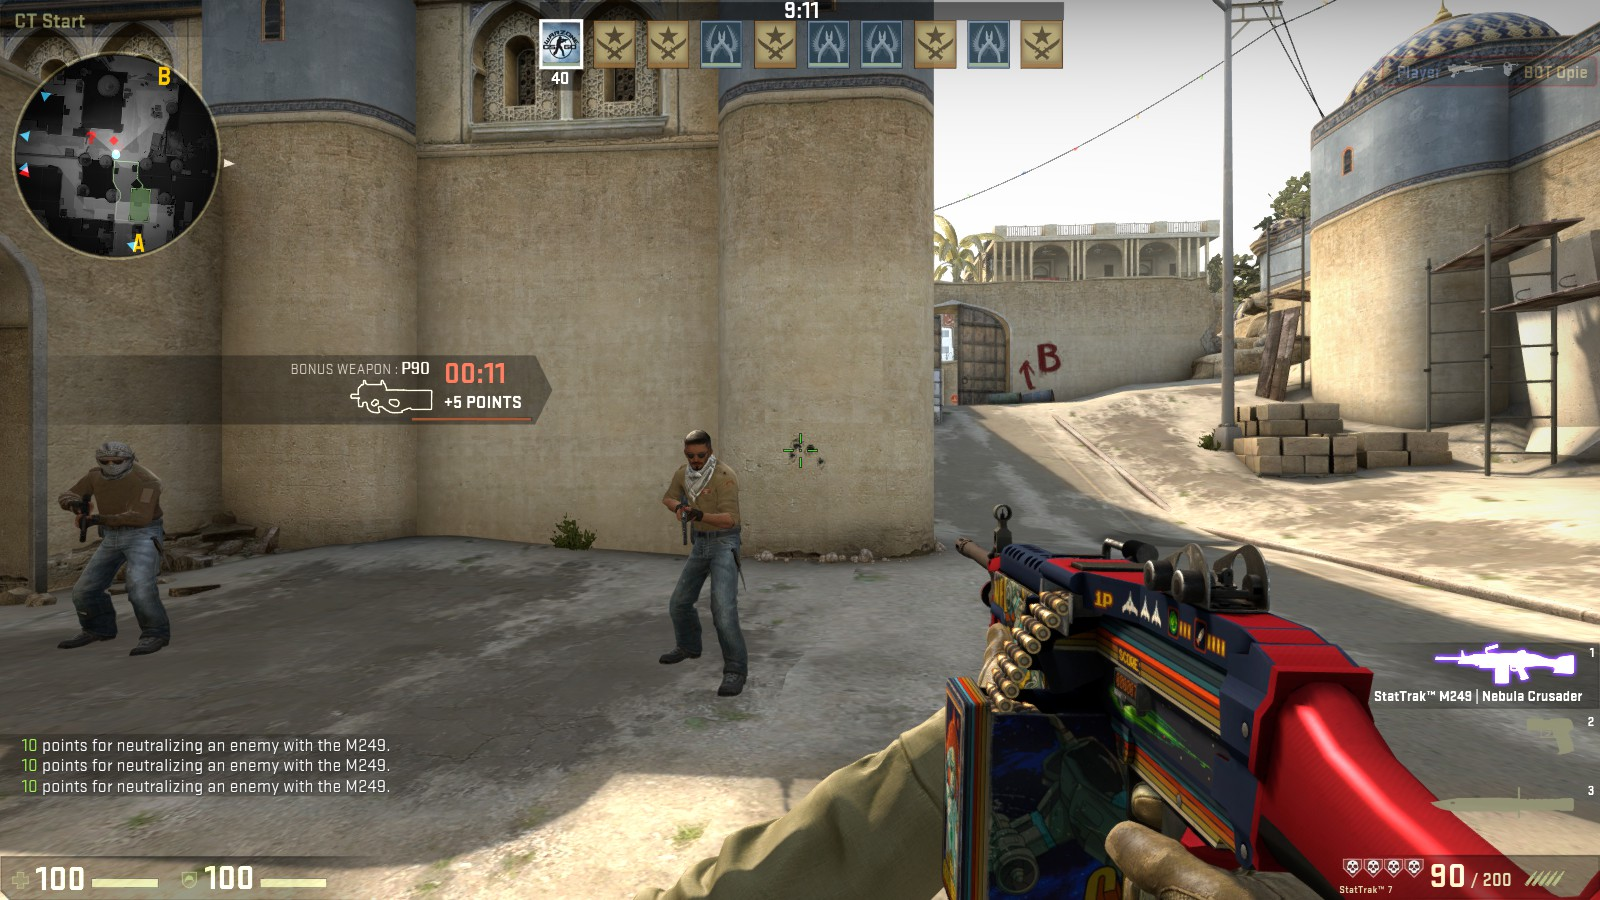t: (64, 434, 164, 656), (667, 426, 738, 695)
th: (677, 427, 721, 473), (92, 436, 136, 481)
